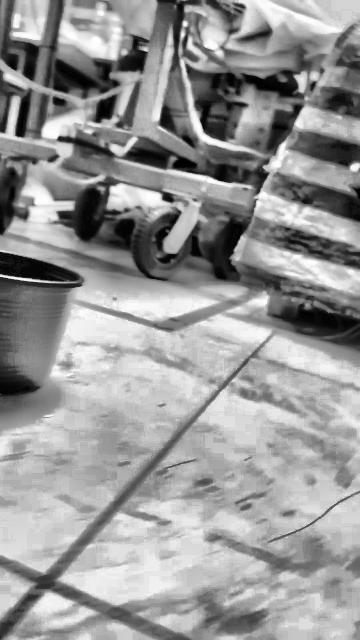pot: (0, 253, 84, 396)
